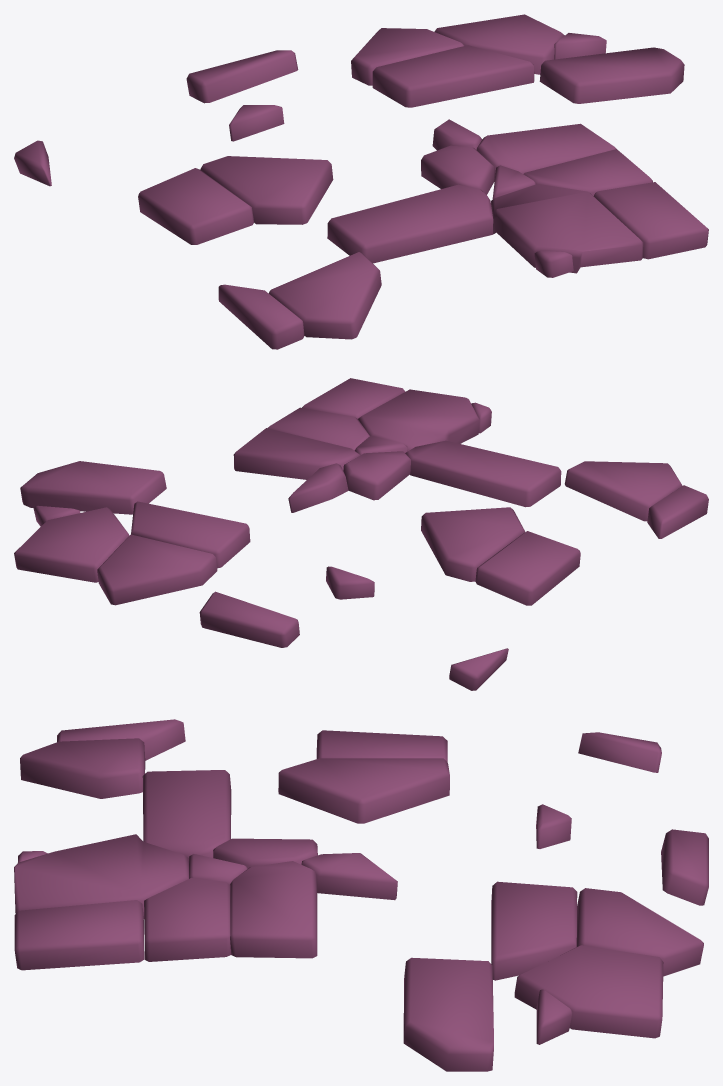
The model's file is SM_floorFractures02_low.fbx.
3 views of the same model, one above another, from view 1: azimuth 30°, elevation 25°; view 2: azimuth 150°, elevation 25°; view 3: azimuth 270°, elevation 25° (orthographic). The views are drawn at different scales.
Parts seen in each view (by area): view 1: Grid_cell.000; view 2: Grid_cell.000; view 3: Grid_cell.000.
Part boxes in pixels (box(x1,y1,x2,y2)): Grid_cell.000: box(14, 14, 708, 349); Grid_cell.000: box(14, 378, 708, 690); Grid_cell.000: box(14, 719, 708, 1071).
Bounding box in the file's own units: 465 × 52.12 × 414.
